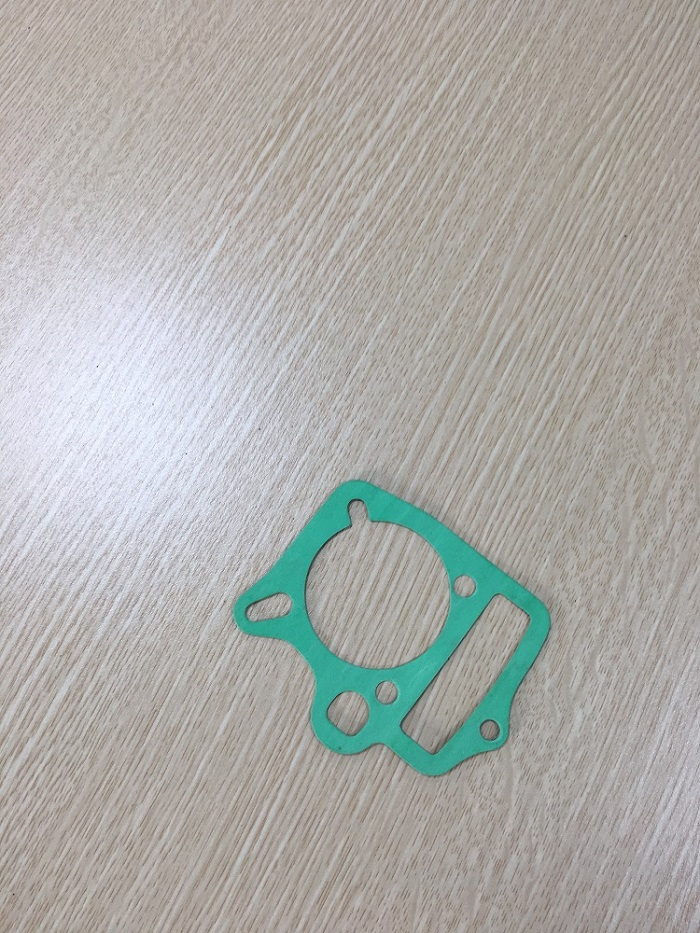circle 1: (297, 476, 459, 680)
circle 2: (317, 682, 377, 747)
circle 3: (230, 573, 302, 639)
circle 4: (442, 567, 483, 614)
circle 5: (473, 713, 516, 752)
circle 6: (383, 580, 540, 770)
object: (194, 452, 589, 822)
